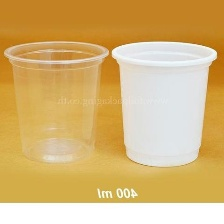glass: (108, 37, 220, 171), (1, 35, 108, 168)
